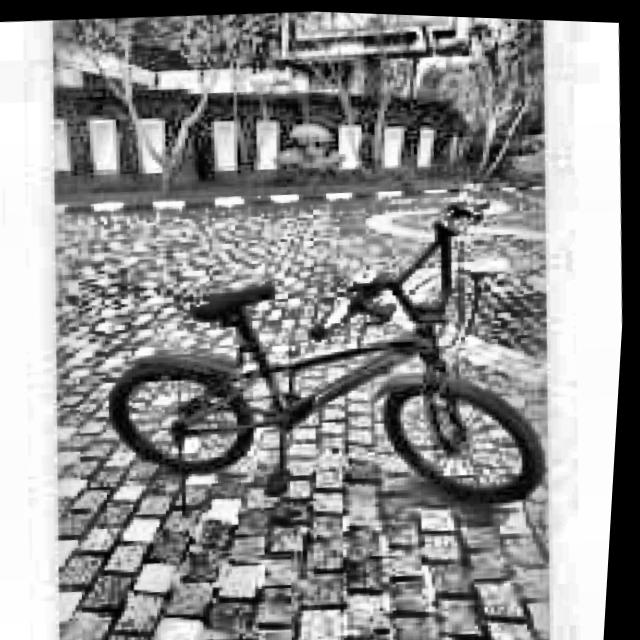motorcycle: (85, 167, 563, 536)
